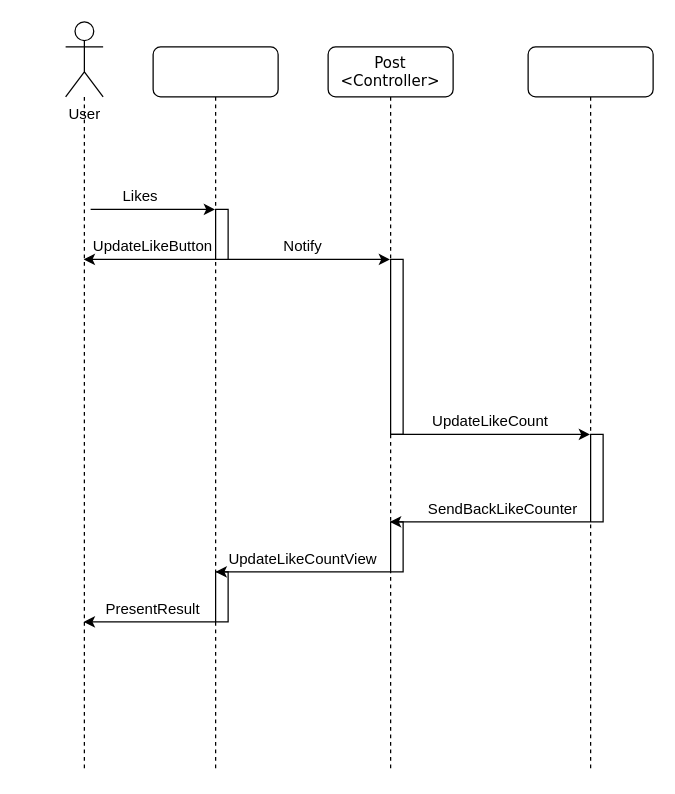
This 675x794 diagram has some shape labels left out. The shapes that lost their labels are listed below. From the top down, each one's box as (x1, y1, x2, y2) in pixels, then its label:
(152, 46, 278, 772): Post <View>
(527, 46, 653, 772): DataConnect
